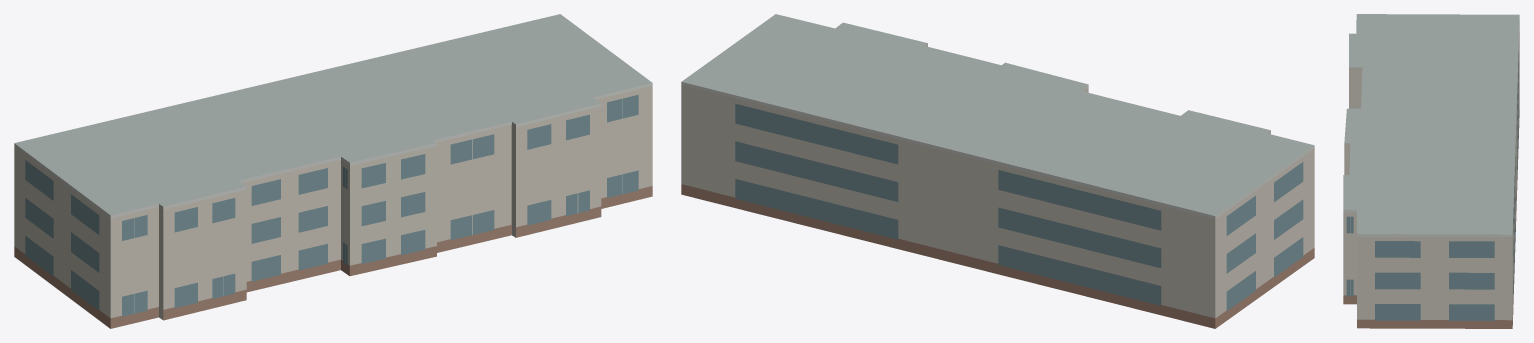
The model's file is survey-upis-33040616.glb.
The picture shows the model from 3 angles, left to right: view 1: azimuth 30°, elevation 25°; view 2: azimuth 150°, elevation 25°; view 3: azimuth 270°, elevation 25°; orthographic projection. The views are drawn at different scales.
Visible parts, largest first — view 1: survey-upis-33040616.tmp; view 2: survey-upis-33040616.tmp; view 3: survey-upis-33040616.tmp.
Part boxes in pixels (x1,y1,x2,y2): survey-upis-33040616.tmp: (14, 14, 652, 328); survey-upis-33040616.tmp: (681, 14, 1314, 328); survey-upis-33040616.tmp: (1343, 14, 1519, 328).
Size of the model in its own units: 45.84 by 9.15 by 15.51.
